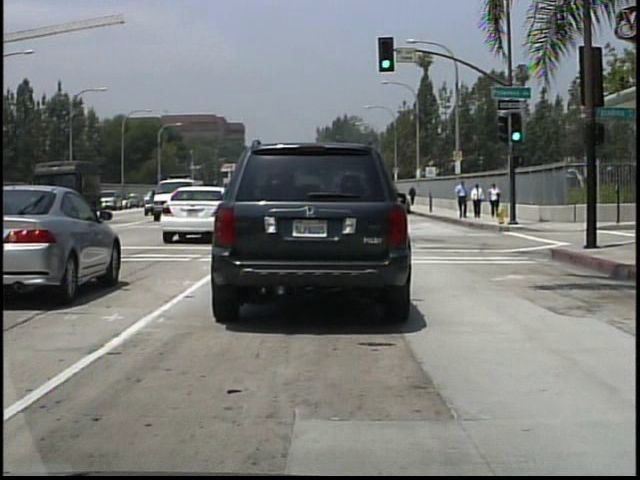person: (456, 178, 471, 221), (487, 182, 502, 218), (470, 182, 485, 218), (408, 185, 417, 207)
